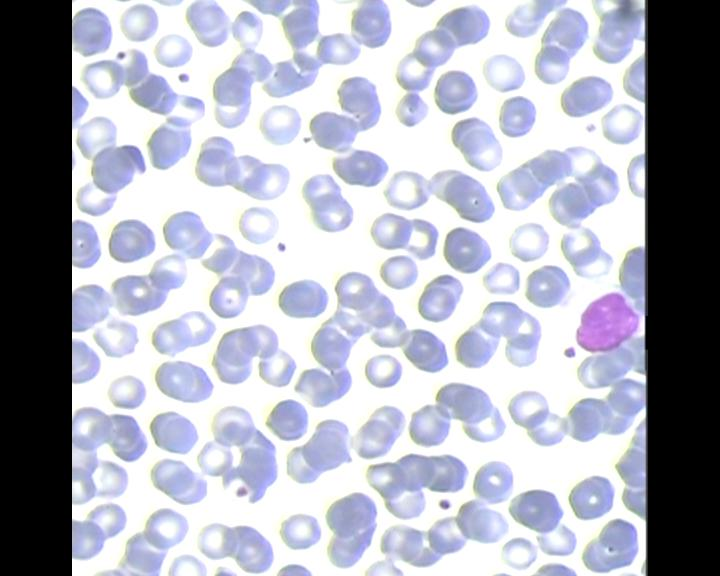lymp: (561, 287, 644, 365)
